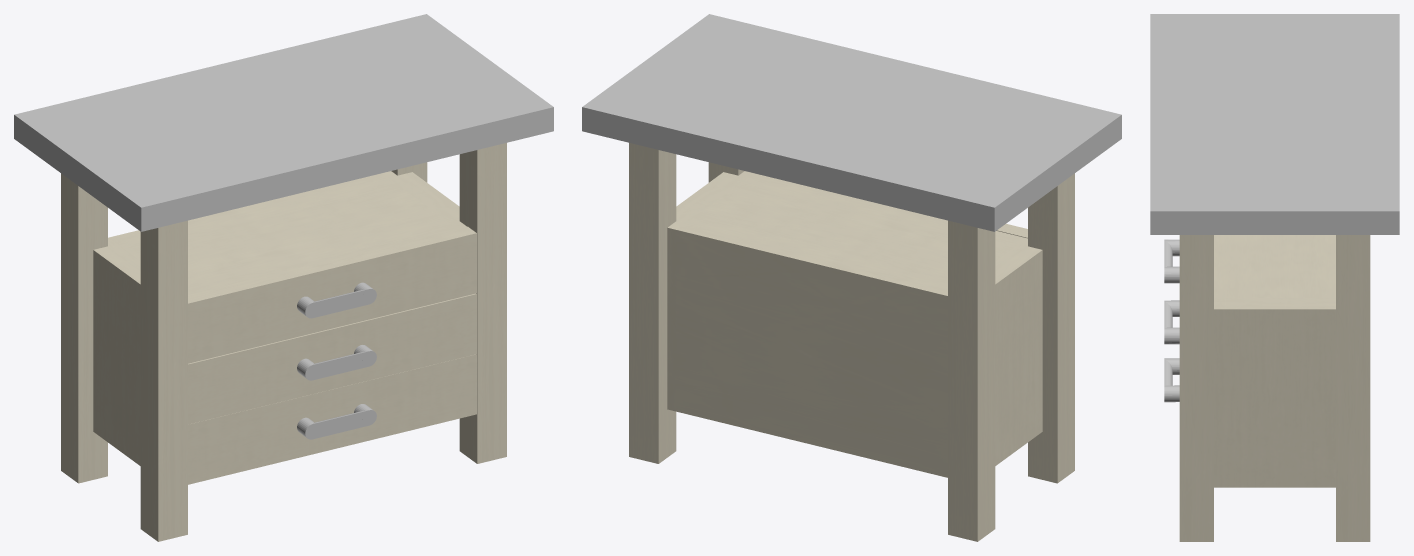
The model's file is 6. 서랍장.fbx.
3 renders of one model, left to right at view 1: azimuth 30°, elevation 25°; view 2: azimuth 150°, elevation 25°; view 3: azimuth 270°, elevation 25°, orthographic. The views are drawn at different scales.
Parts seen in each view (by area): view 1: 서랍장, 서랍장_서랍; view 2: 서랍장; view 3: 서랍장, 서랍장_서랍.
Boxes of the visible parts, x1,y1,x2,y2 form: 서랍장: [14, 14, 553, 541]; 서랍장_서랍: [188, 226, 476, 363]; 서랍장: [582, 14, 1121, 541]; 서랍장: [1150, 14, 1399, 541]; 서랍장_서랍: [1164, 239, 1179, 283].
Size of the model in its own units: 183 by 150 by 97.72.
